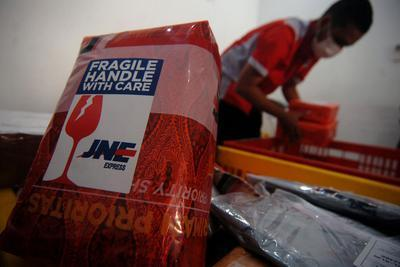undamaged: (0, 17, 230, 265)
